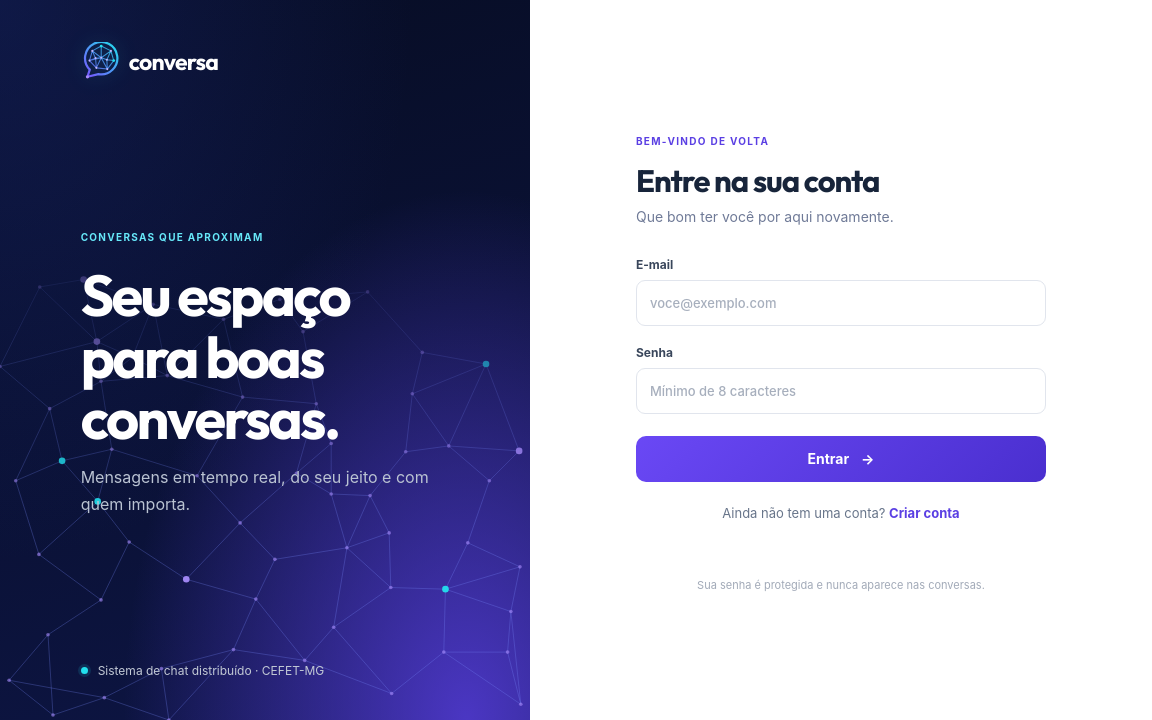
Test: LoginPage › mostra o erro retornado pela API sem autenticar
The width and height of the screenshot is (1152, 720).
Type "ana@example.com" into the field labelled "E-mail" at [841, 302], box [636,280,1046,326]
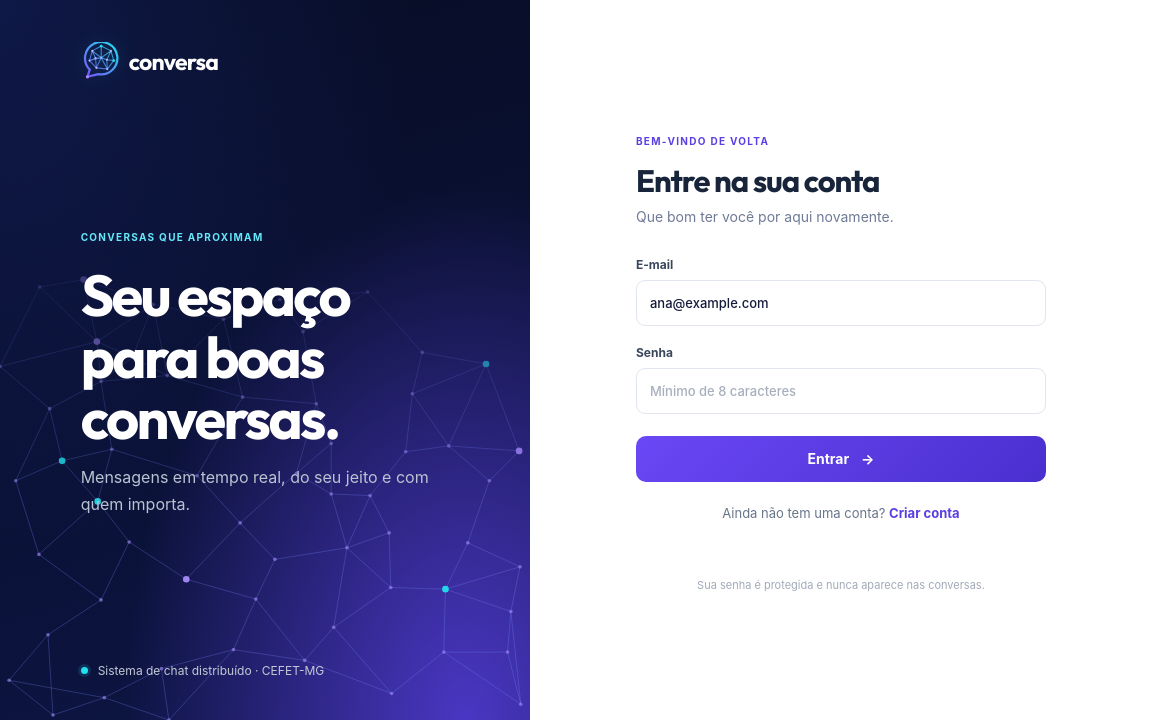
Type "senha-segura" into the password field labelled "Senha" at [841, 390], box [636,368,1046,414]
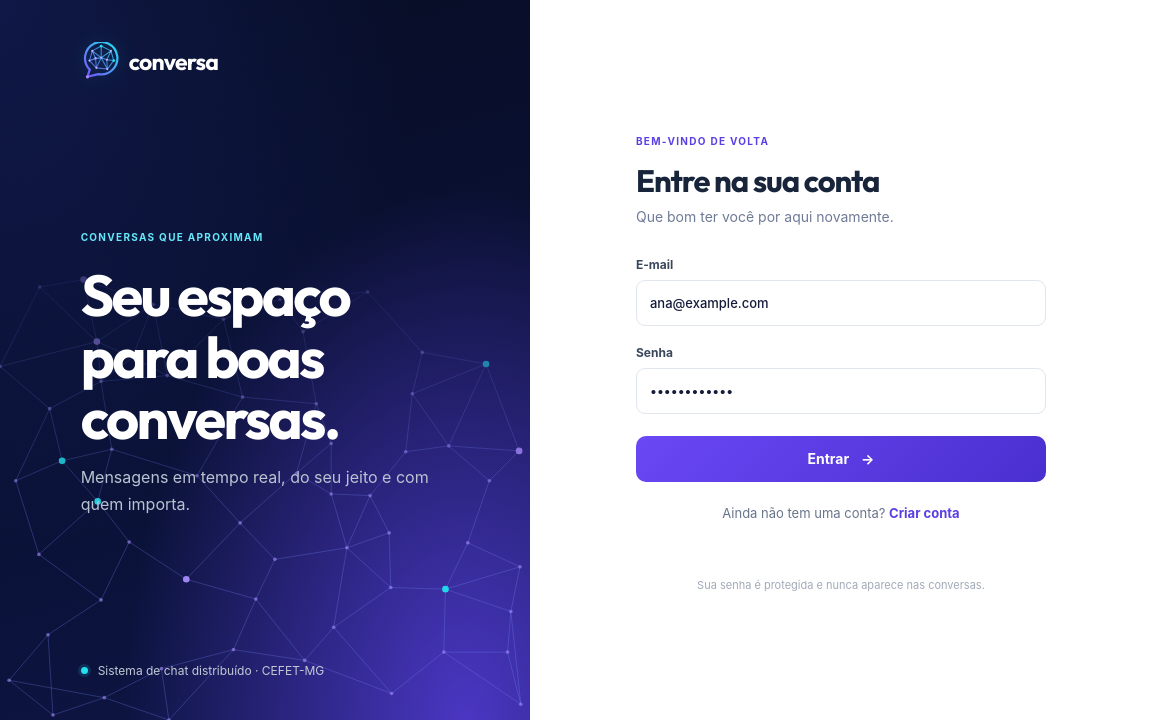
Click the button "Entrar →" at [841, 458], box [636,436,1046,482]
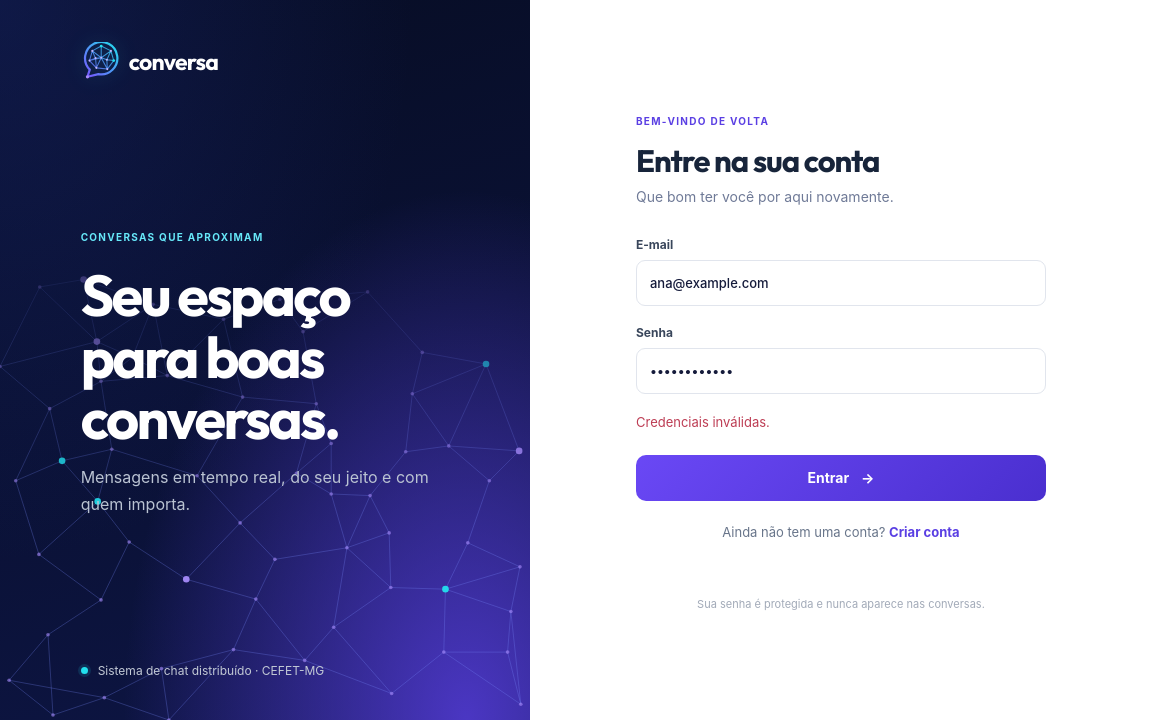
Now the message reads "Credenciais inválidas.", box [636,414,770,430]
